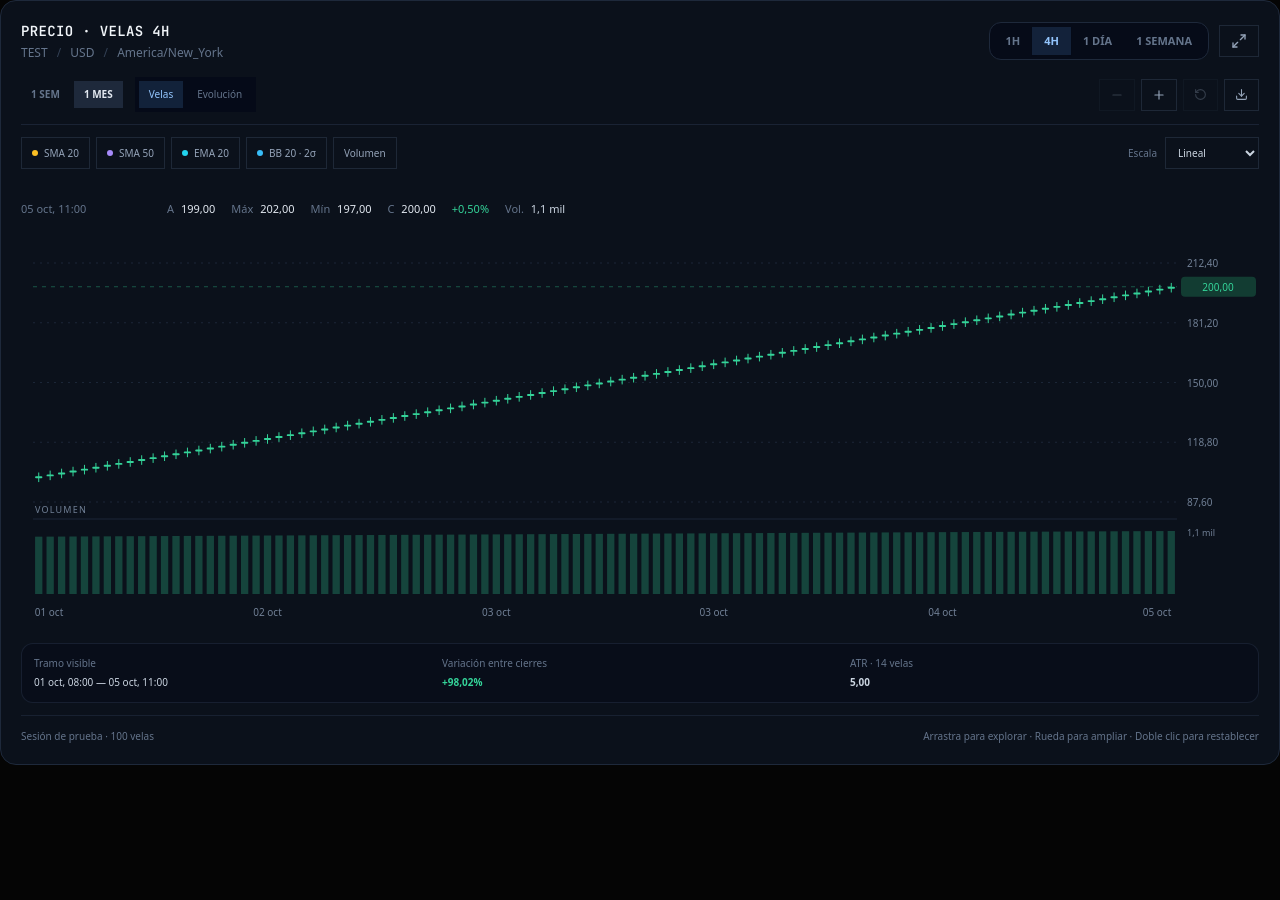
Test case: professional candlestick interactions › zooms, pans with keyboard, and restores latest real candle range without a request
Click the button named "Acercar velas" at (1159, 94), box [1141,78,1177,110]
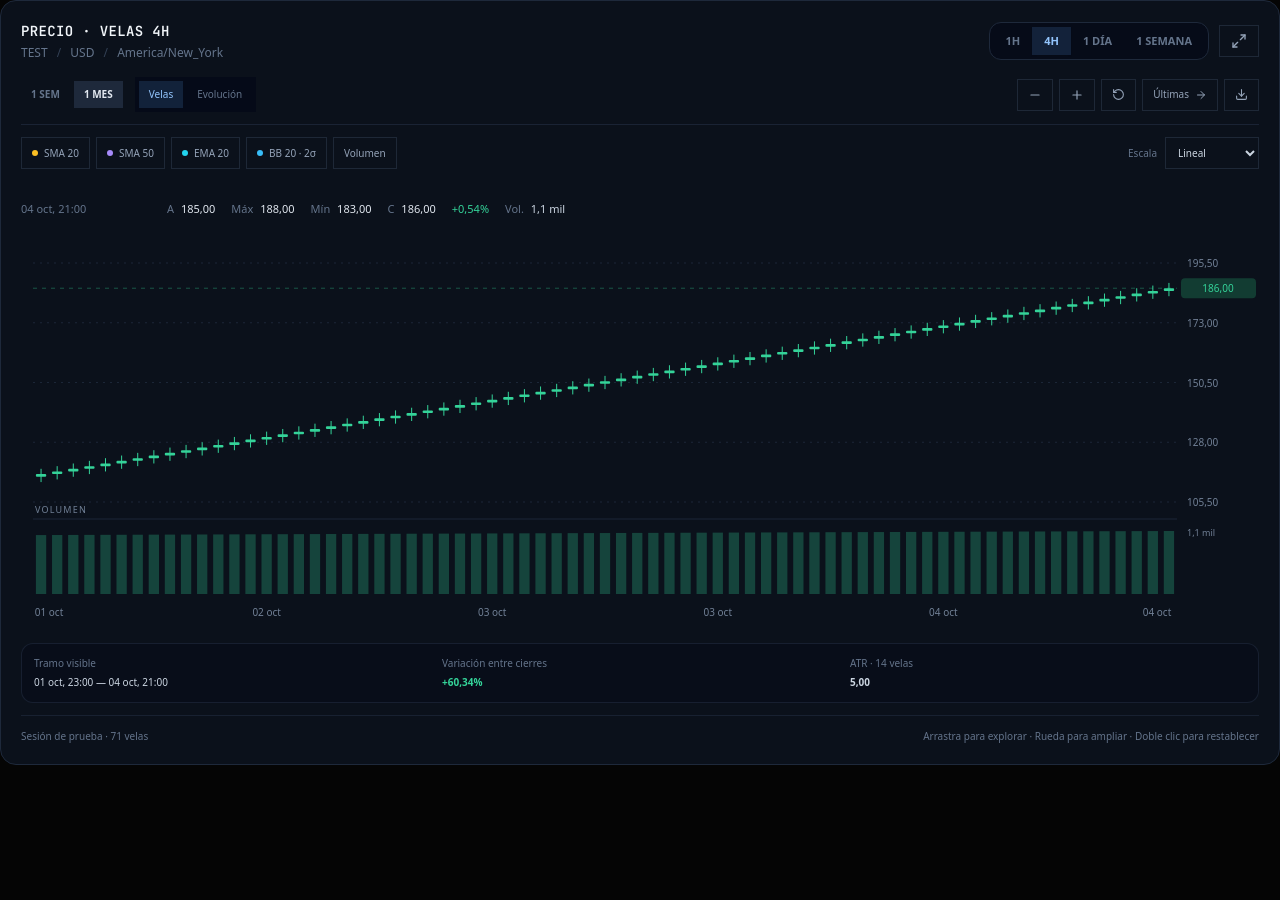
Press Home in the icon named "Velas japonesas 4H de TEST", box [21,241,1259,631]
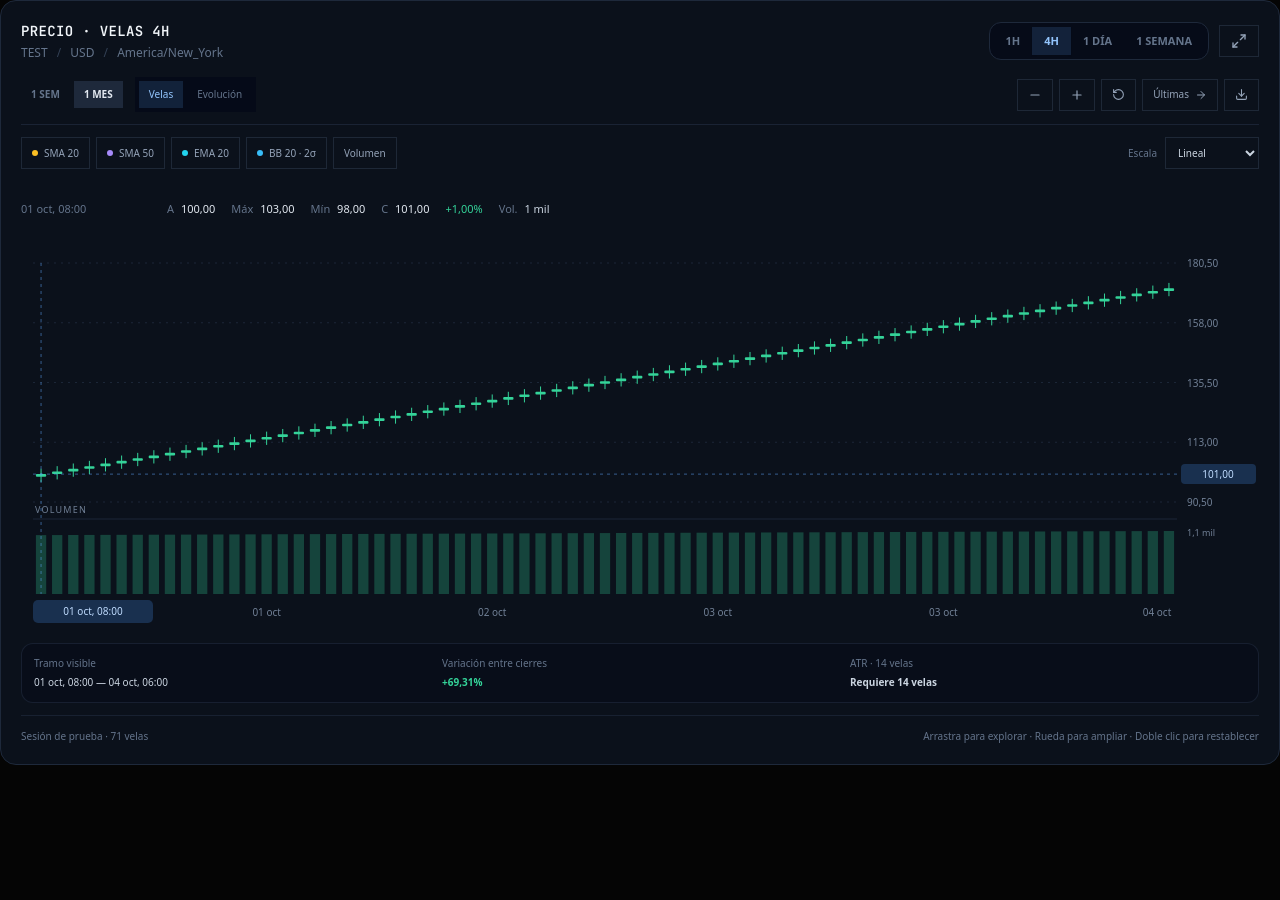
Check: the button with aria-label "Volver a las últimas velas" is shown
Click the button with aria-label "Volver a las últimas velas" at (1180, 94), box [1142,78,1218,110]
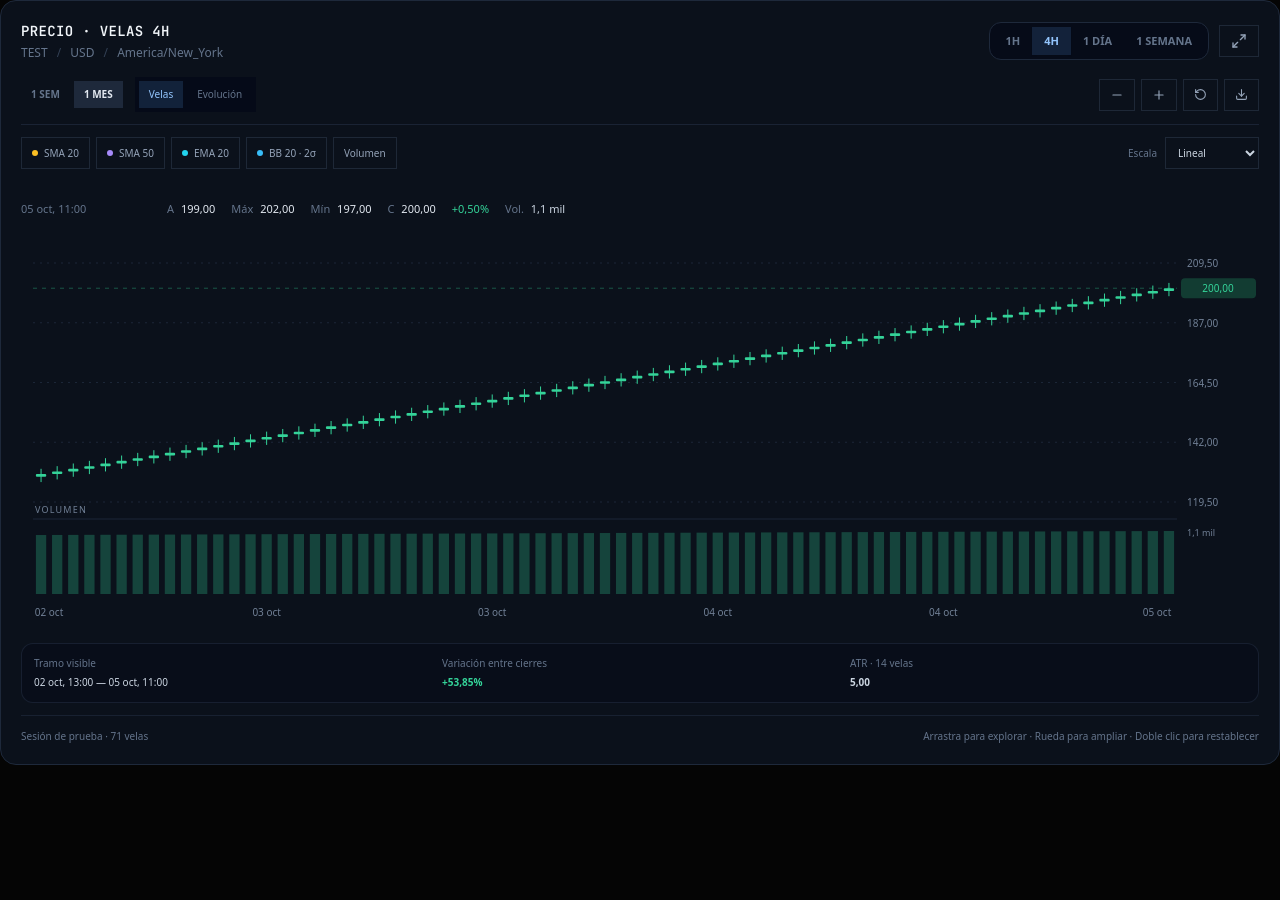
Click the button named "Restablecer gráfico" at (1200, 94), box [1183,78,1218,110]
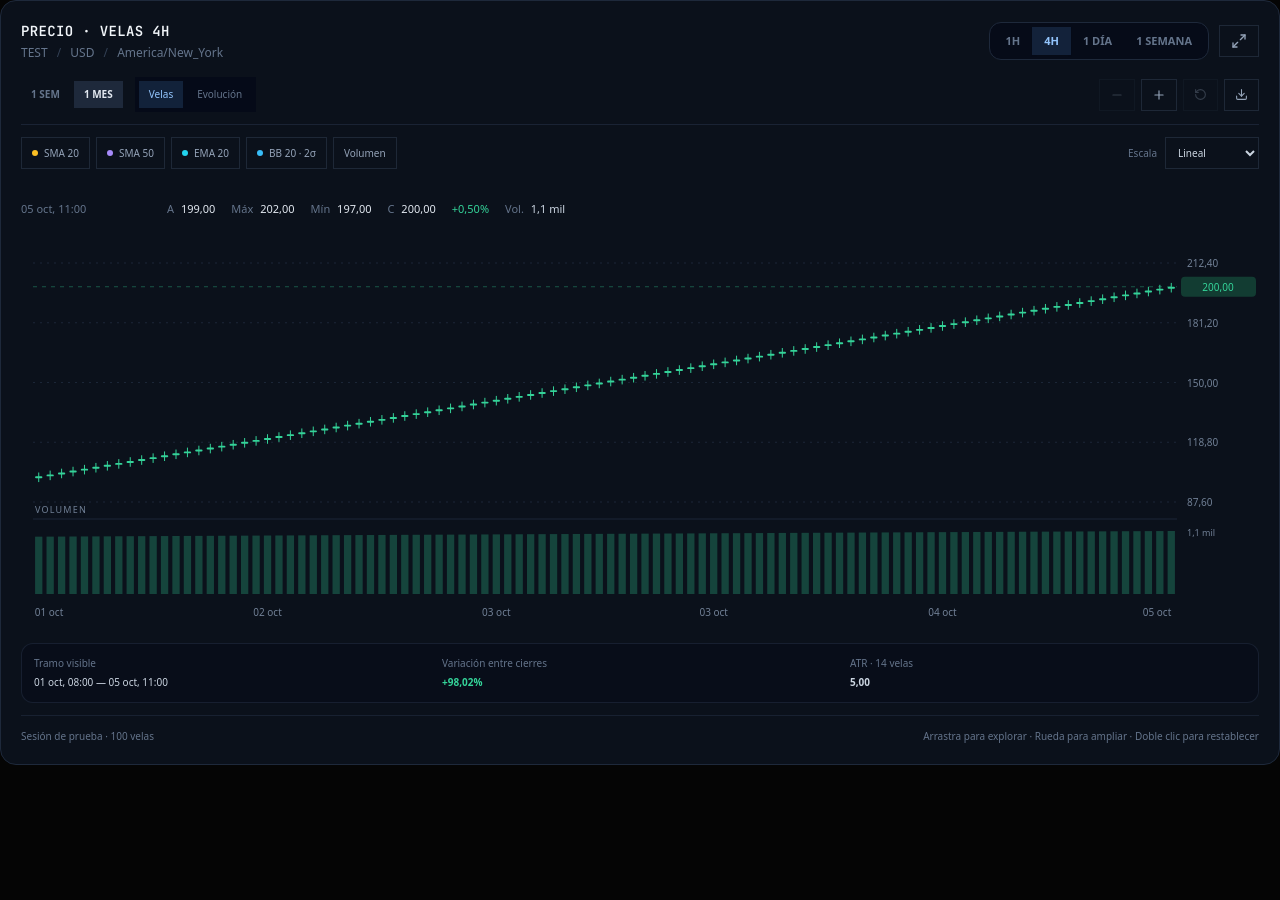
Click the button with aria-label "Velas 1 DÍA" at (1098, 41), box [1071,27,1124,55]
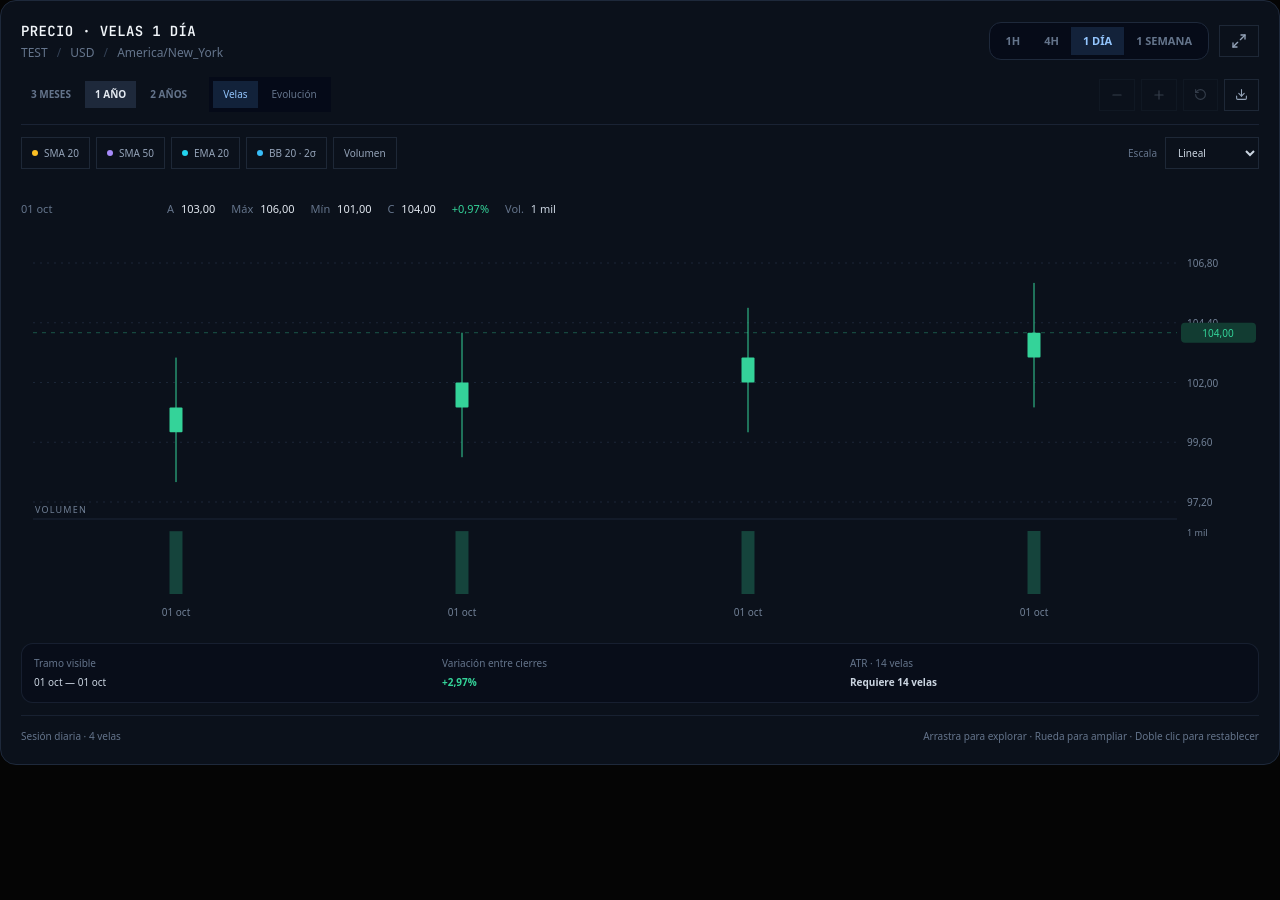
Check: the text "Sesión diaria · 4 velas" is shown, box [21,728,121,744]
